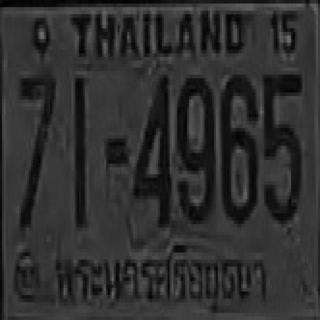N01: (73, 76, 87, 226)
N04: (132, 71, 170, 224)
N05: (262, 71, 301, 220)
N06: (220, 71, 256, 220)
N07: (18, 71, 55, 228)
N09: (176, 75, 214, 220)
P03: (50, 238, 269, 314)
